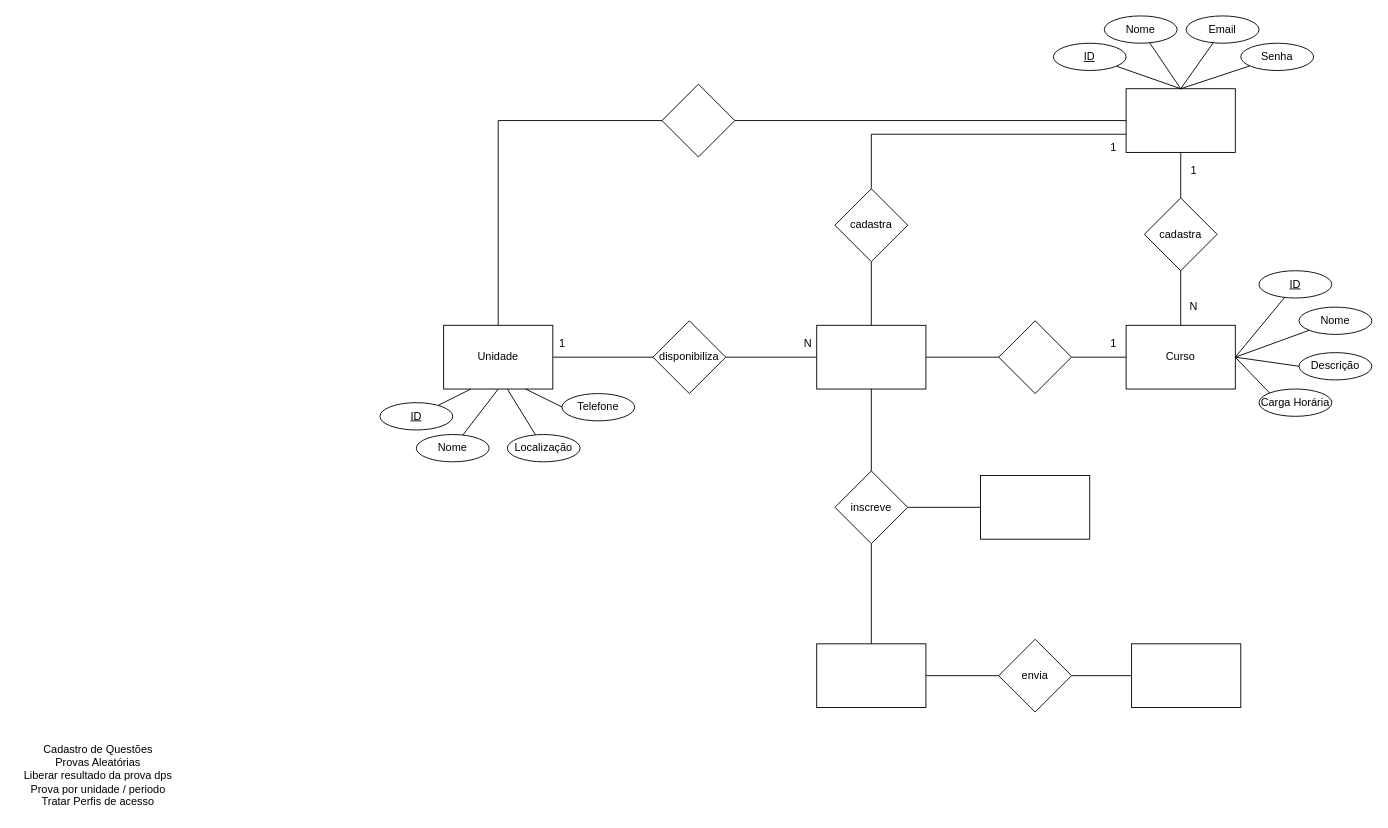
The diagram is 1388 pixels wide and 828 high, and some of its shapes have lost their labels. The centre of each missing label's shape, as x and y in pixels:
Administrador: (x=1180, y=120)
Candidato: (x=871, y=675)
contém: (x=1035, y=357)
Documentos: (x=1186, y=675)
possui: (x=698, y=120)
Prova: (x=1035, y=507)
Turma: (x=871, y=356)
